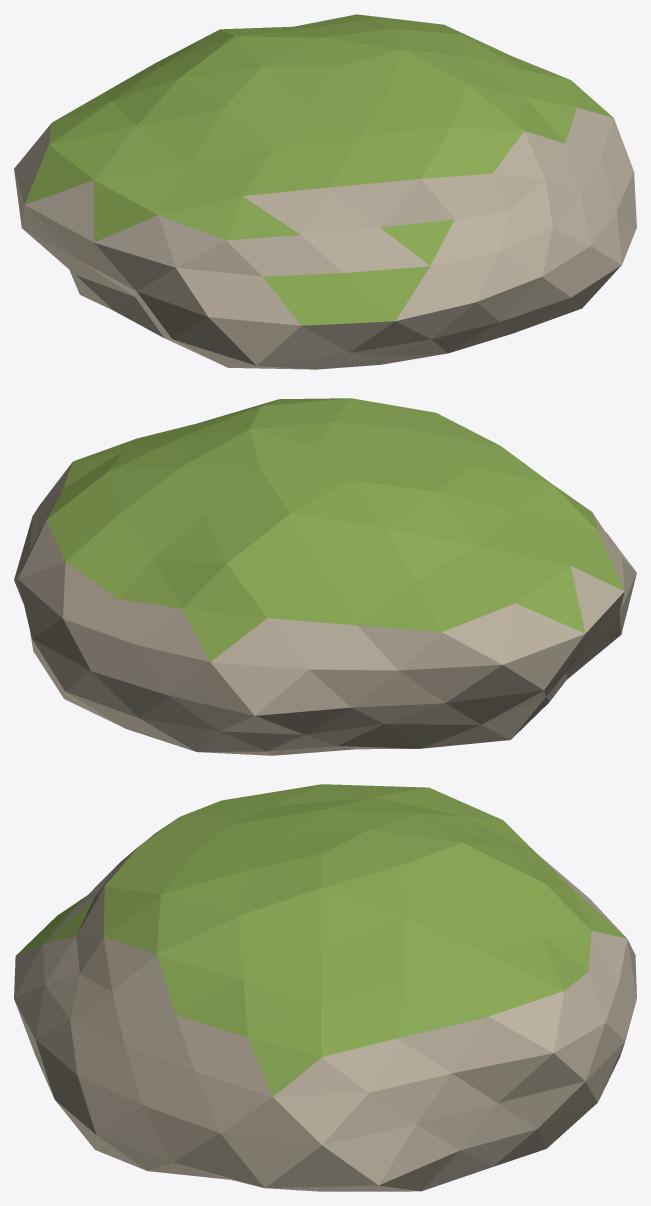
Rendered from boulder.glb.
The picture shows the model from 3 angles, top to bottom: view 1: azimuth 30°, elevation 25°; view 2: azimuth 150°, elevation 25°; view 3: azimuth 270°, elevation 25°; orthographic projection. The views are drawn at different scales.
Parts seen in each view (by area): view 1: boulder_variant_2; view 2: boulder_variant_2; view 3: boulder_variant_2.
Boxes of the visible parts, x1=… form: boulder_variant_2: x1=14, y1=14, x2=636, y2=369; boulder_variant_2: x1=14, y1=398, x2=636, y2=755; boulder_variant_2: x1=14, y1=784, x2=636, y2=1191.
Size of the model in its own units: 0.3028 by 0.1125 by 0.2676.
